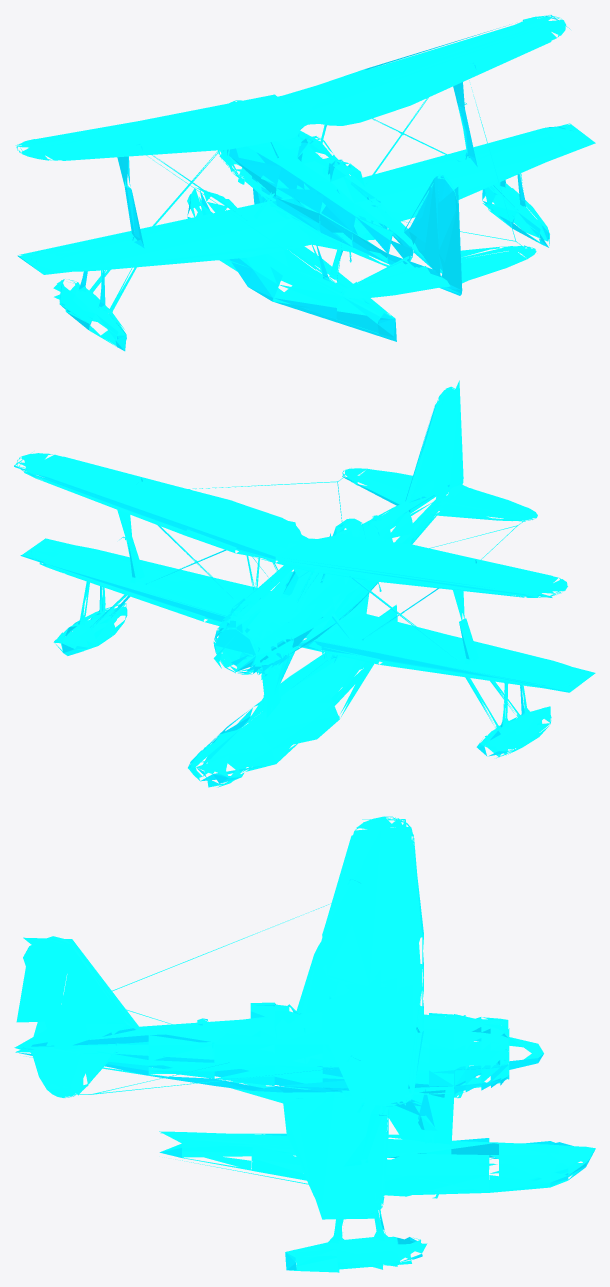
Rendered from PJAS001.glb.
The picture shows the model from 3 angles, top to bottom: view 1: azimuth 30°, elevation 25°; view 2: azimuth 150°, elevation 25°; view 3: azimuth 270°, elevation 25°; orthographic projection. The views are drawn at different scales.
Parts seen in each view (by area): view 1: misc; view 2: misc; view 3: misc.
Part boxes in pixels (left/top/right/bottom): misc: left=15, top=15, right=595, bottom=351; misc: left=14, top=380, right=595, bottom=787; misc: left=14, top=816, right=595, bottom=1272.
Bounding box in the file's own units: 0.7346 × 0.3068 × 0.6176.
